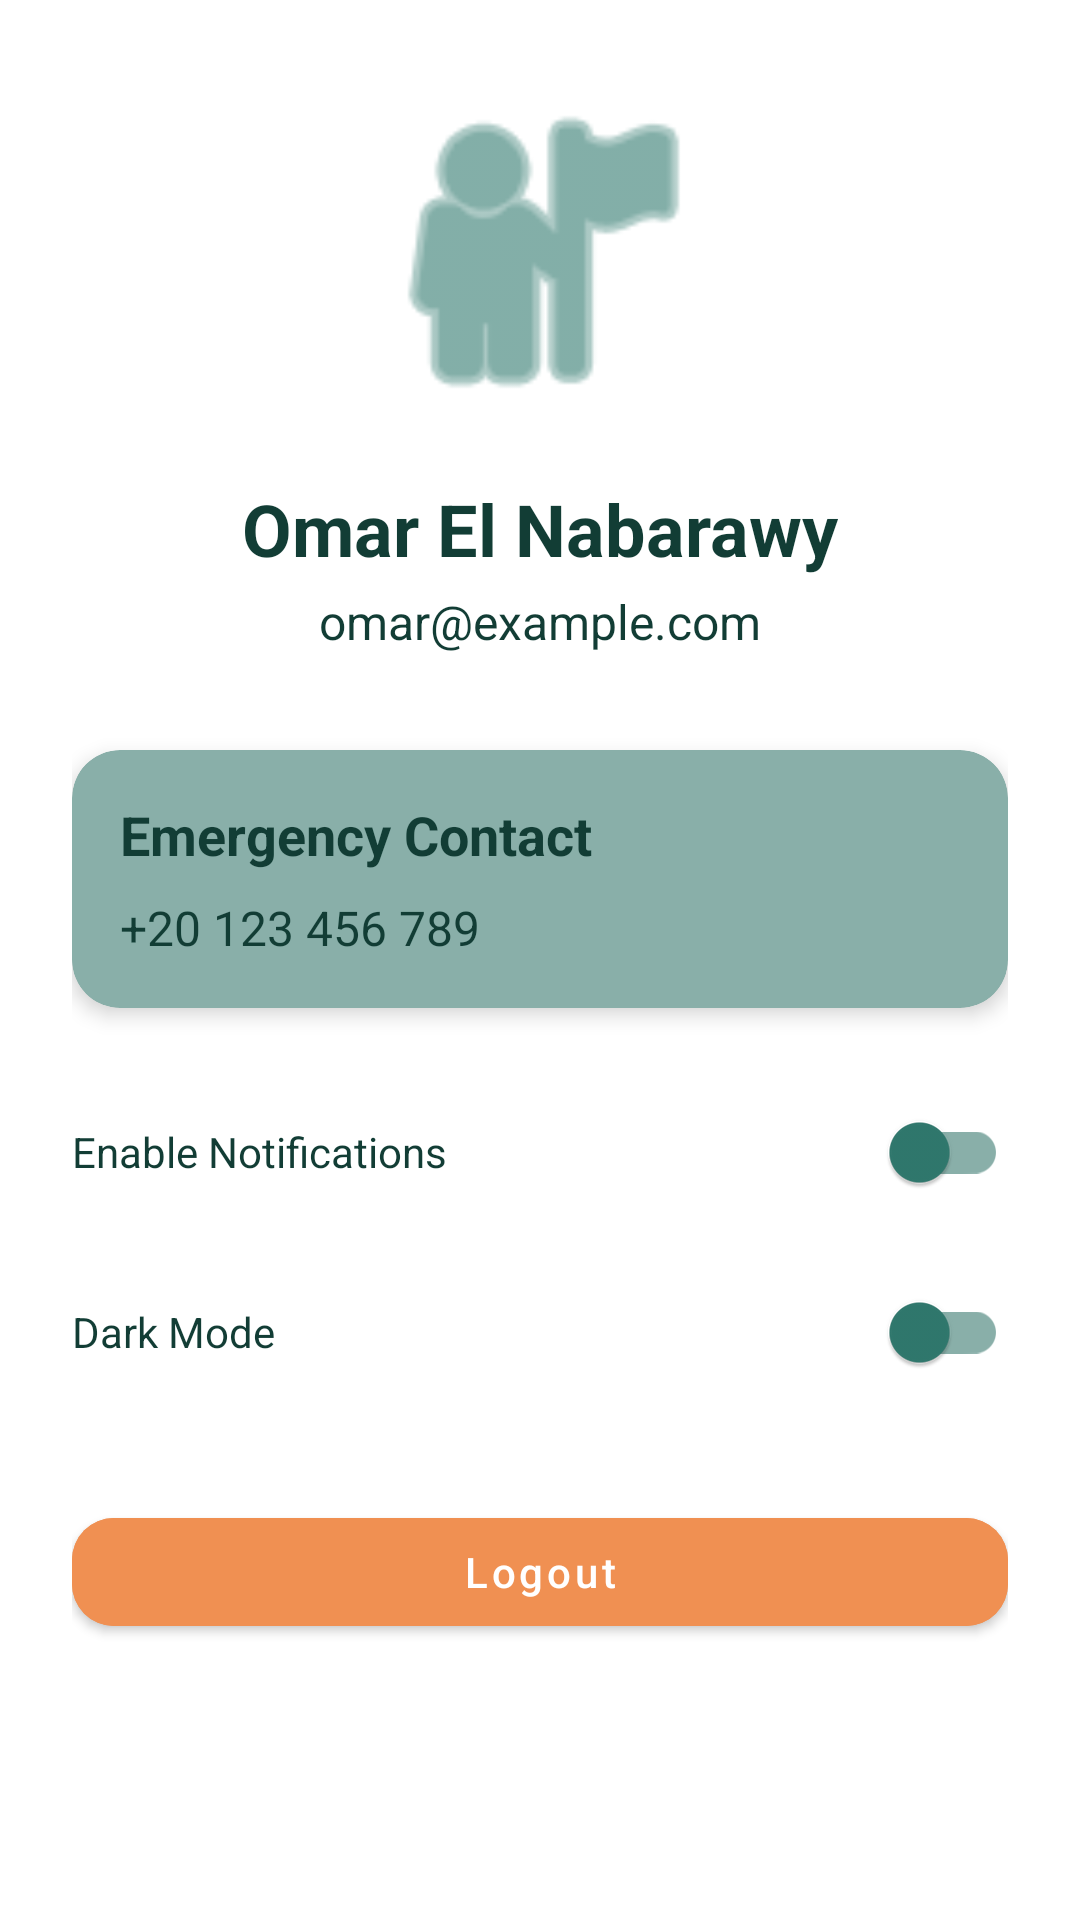

Icon click points for this 1080x1920 phone screenshot, format [x,y]:
Profile: [543,252]
